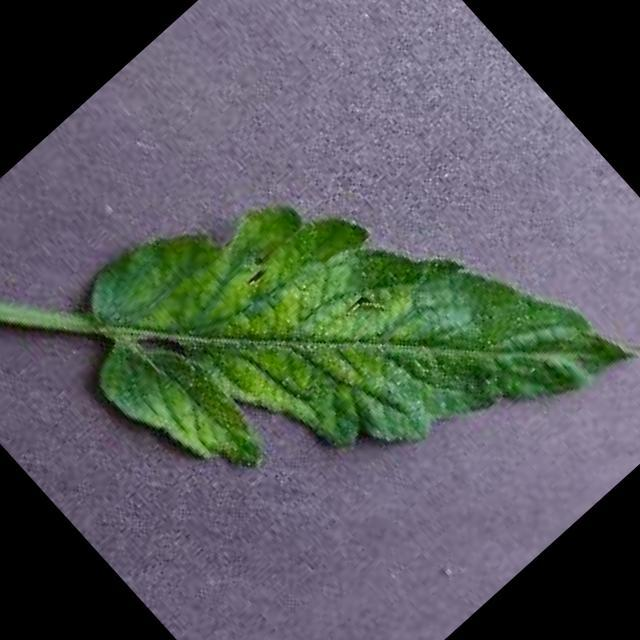Tomato mosaic virus leaf: (39, 39, 640, 640)
